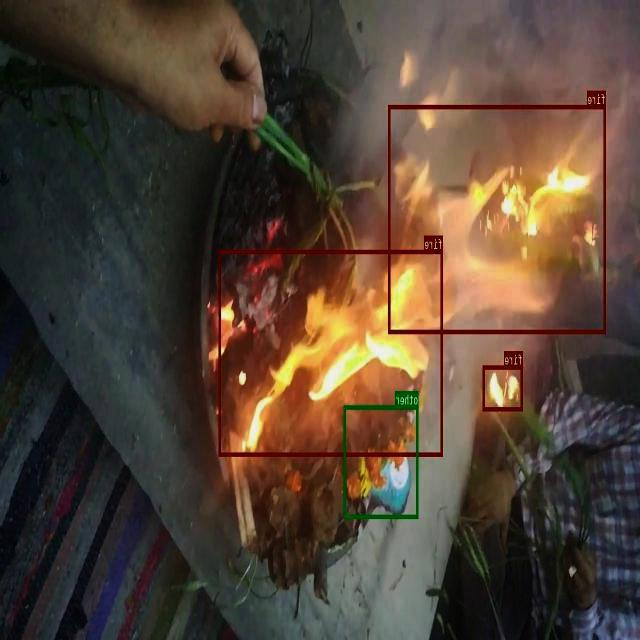fire: (388, 104, 606, 333), (218, 250, 444, 456), (484, 365, 524, 410)
